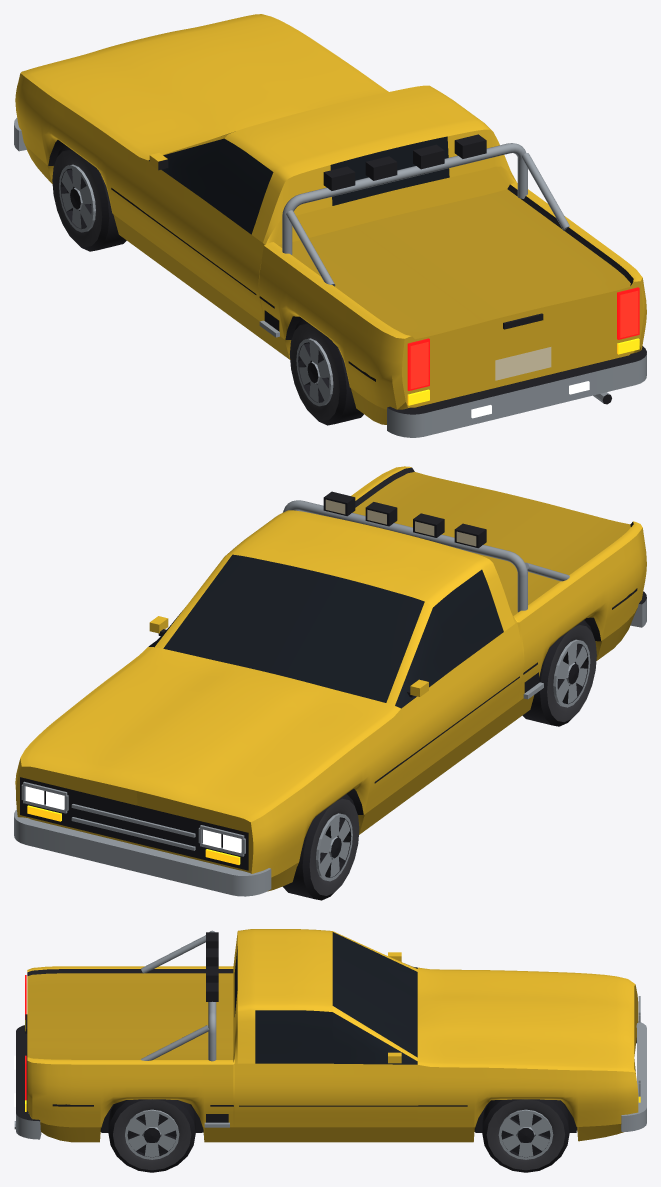
The model's file is daybreak.glb.
3 views of the same model, one above another, from view 1: azimuth 30°, elevation 25°; view 2: azimuth 150°, elevation 25°; view 3: azimuth 270°, elevation 25° (orthographic). The views are drawn at different scales.
Visible parts, largest first — view 1: Body, Tire_RL, Tire_FL, Rim_FL, Rim_RL, brake_R, brake_L; view 2: Body, Tire_FL, Tire_RL, Rim_FL, Rim_RL; view 3: Body, Tire_FR, Tire_RR, Rim_FR, Rim_RR.
Boxes of the visible parts, x1,y1,x2,y2 form: Body: [14, 14, 646, 437]; Tire_RL: [289, 319, 363, 425]; Tire_FL: [52, 145, 126, 251]; Rim_FL: [59, 164, 95, 232]; Rim_RL: [296, 338, 333, 406]; brake_R: [620, 290, 638, 337]; brake_L: [410, 342, 428, 388]; Body: [14, 466, 646, 896]; Tire_FL: [282, 794, 359, 900]; Tire_RL: [522, 620, 596, 726]; Rim_FL: [316, 813, 352, 881]; Rim_RL: [553, 639, 590, 707]; Body: [14, 929, 646, 1142]; Tire_FR: [482, 1099, 569, 1172]; Tire_RR: [108, 1099, 195, 1172]; Rim_FR: [498, 1109, 553, 1159]; Rim_RR: [125, 1109, 179, 1159].
Size of the model in its own units: 1.94 by 1.42 by 5.
